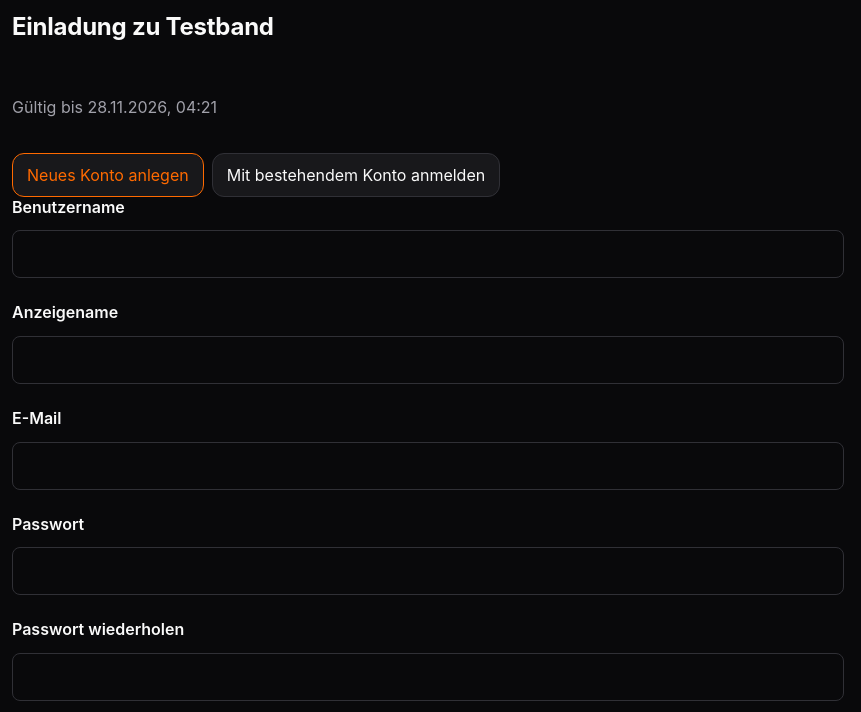
Test case: EinladungAnsicht Fehlerfälle › verlangt übereinstimmende Passwörter
Type "neu" into the field labelled "Benutzername" at (428, 254), box [12,230,844,278]
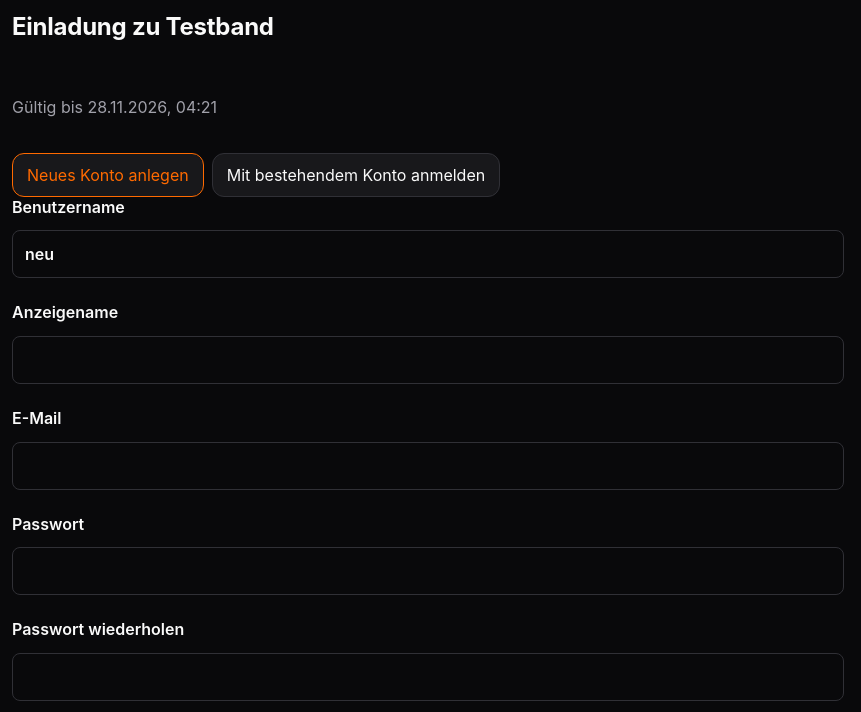
Type "neu@example.test" into the field labelled "E-Mail" at (428, 466), box [12,442,844,490]
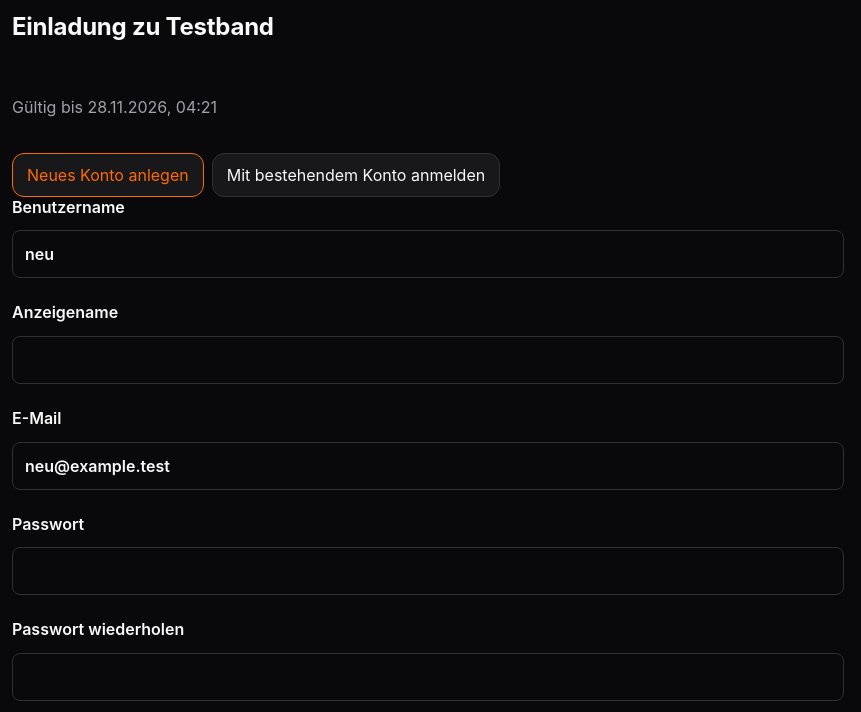
Type "testpasswort-1111" into the password field labelled "Passwort" at (428, 571), box [12,547,844,595]
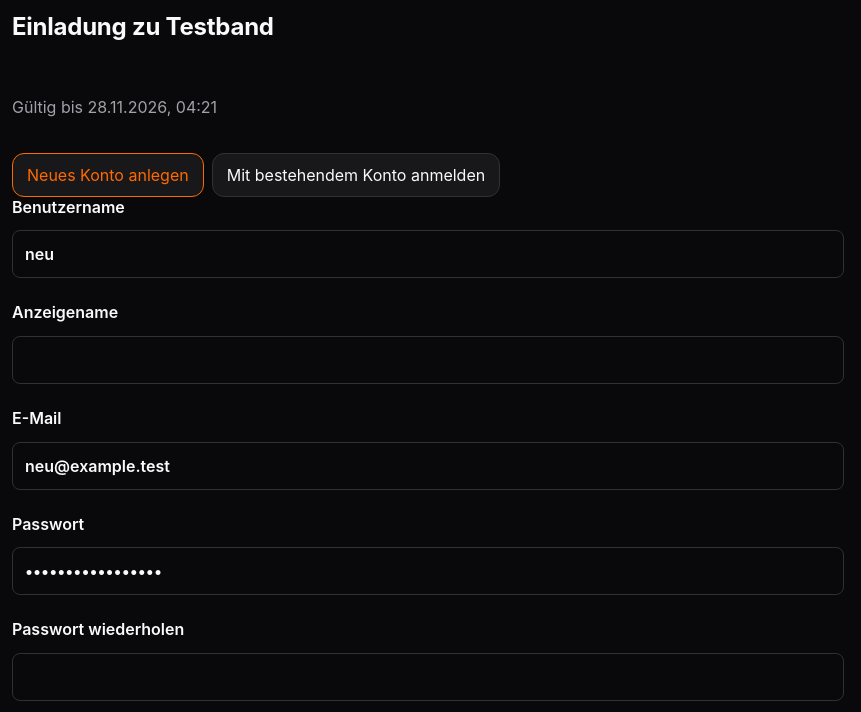
Type "anders" into the password field labelled "Passwort wiederholen" at (428, 677), box [12,653,844,701]
(page scrolled)
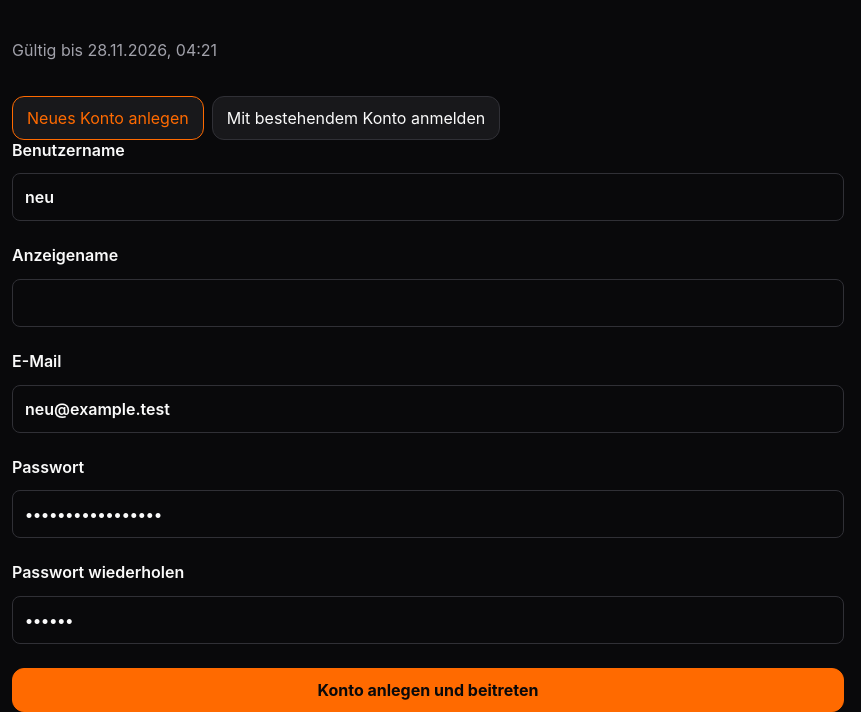
Click the button "Konto anlegen und beitreten" at (428, 690), box [12,668,844,711]
(page scrolled)
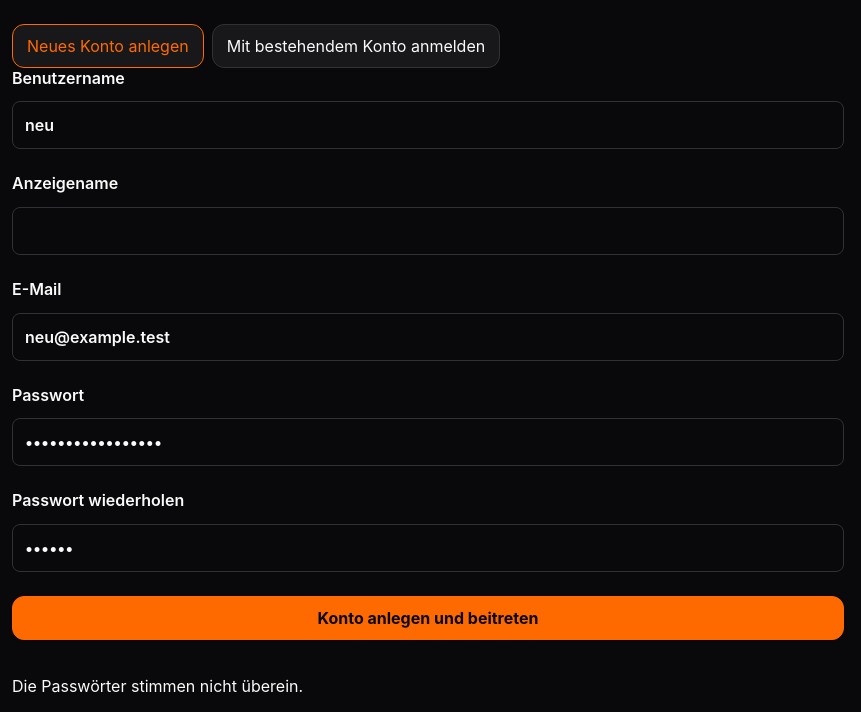
expect the text "Die Passwörter stimmen nicht überein." is shown: met, box [12,676,303,696]
